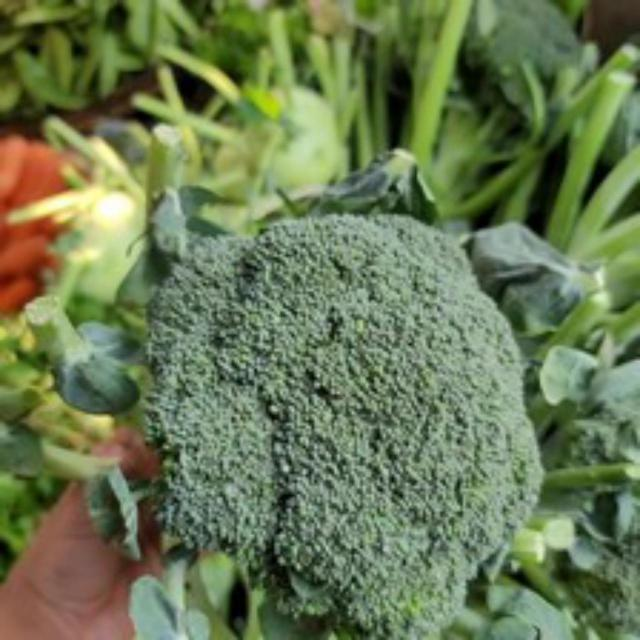broccoli: (144, 203, 548, 635)
